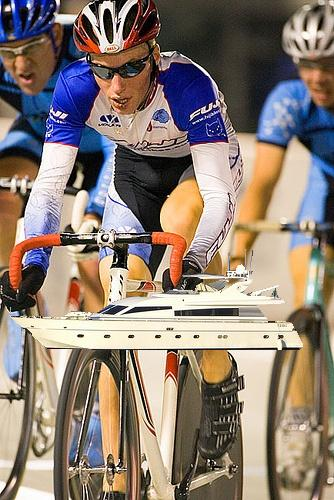tampered: (11, 250, 303, 350)
